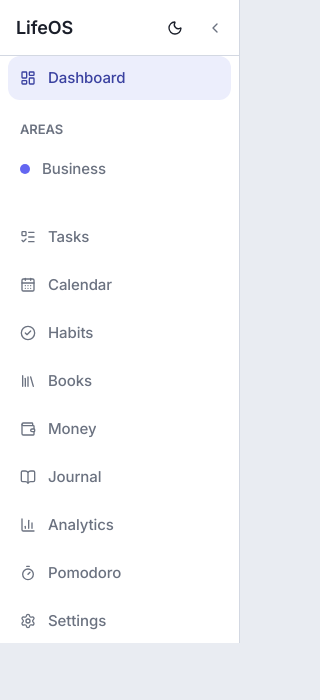
Sidebar collapse › collapses and expands from the bottom arrow, and remembers it
Expected: the text "Business" is shown, [42,158,106,180]
Click the button named "Collapse sidebar".
click(215, 28)  # box [199,12,231,44]
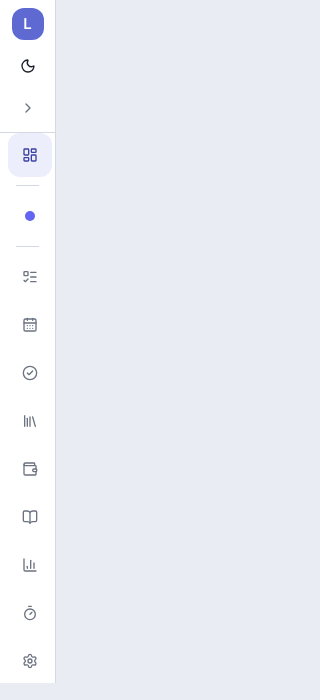
Expected: the link named "Business" is shown, [25,211,35,221]
Expected: the text "Business" is gone
Click the button named "Expand sidebar".
click(28, 108)  # box [12,92,44,124]
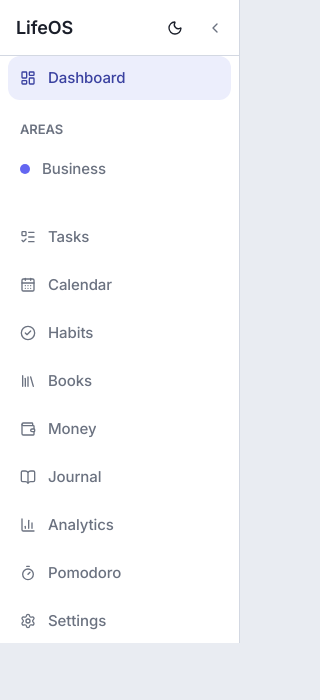
Expected: the text "Business" is shown, [42,158,106,180]
